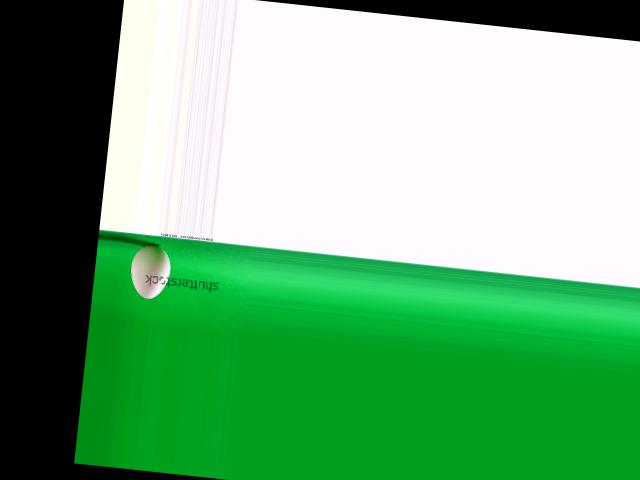egg: (127, 241, 172, 300)
